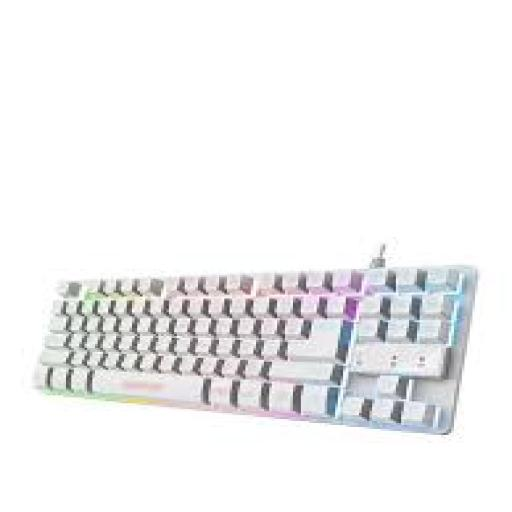keyboard: (34, 249, 472, 433)
